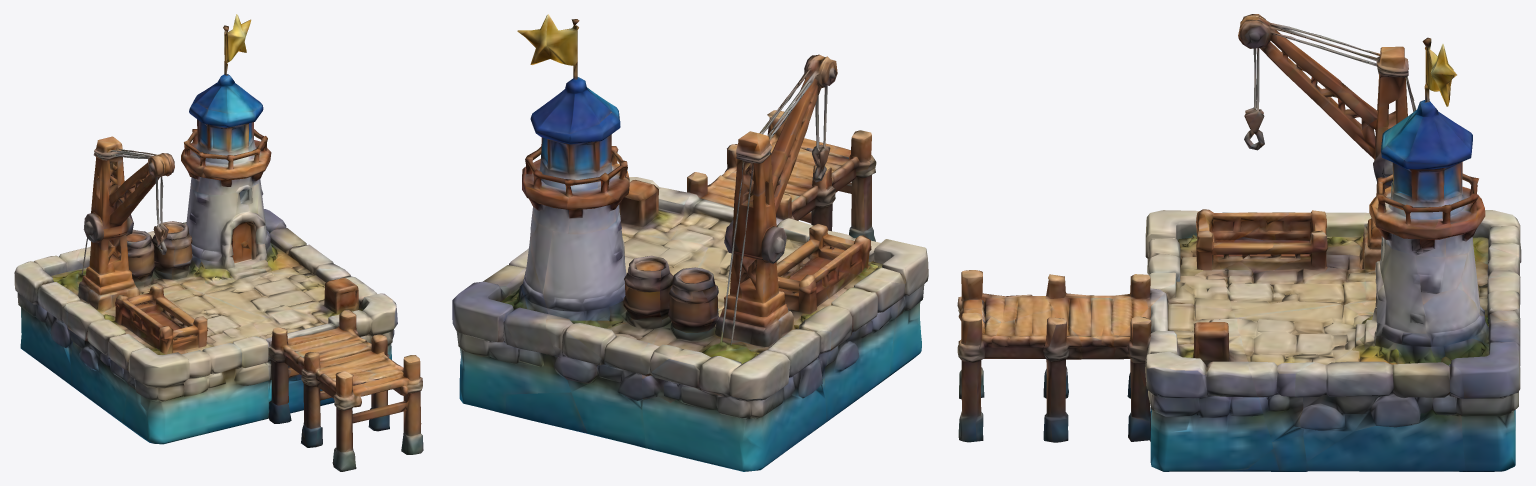
Rendered from port-low.glb.
The picture shows the model from 3 angles, left to right: view 1: azimuth 30°, elevation 25°; view 2: azimuth 150°, elevation 25°; view 3: azimuth 270°, elevation 25°; orthographic projection. The views are drawn at different scales.
Parts seen in each view (by area): view 1: tripo_node_9a656189-0ec0-41cd-8d83-53278e418af4; view 2: tripo_node_9a656189-0ec0-41cd-8d83-53278e418af4; view 3: tripo_node_9a656189-0ec0-41cd-8d83-53278e418af4.
Boxes of the visible parts, box(x1,y1,x2,y2) form: tripo_node_9a656189-0ec0-41cd-8d83-53278e418af4: box(14, 14, 423, 471); tripo_node_9a656189-0ec0-41cd-8d83-53278e418af4: box(452, 14, 928, 471); tripo_node_9a656189-0ec0-41cd-8d83-53278e418af4: box(957, 14, 1521, 471).
Bounding box in the file's own units: 0.6767 × 0.7759 × 0.9983.
Materials: 1 (1 with a texture image).
